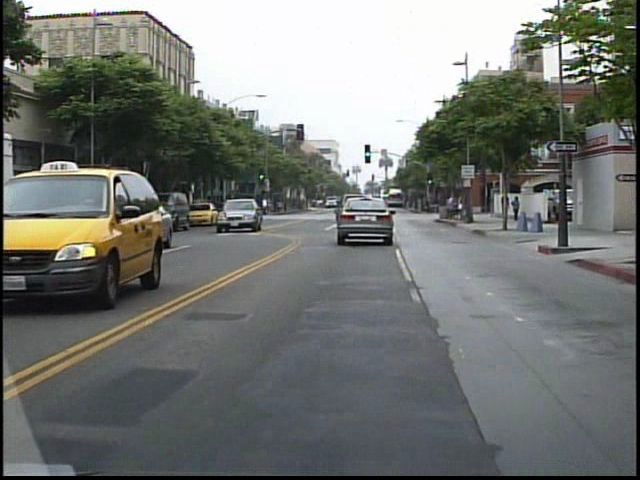person: (440, 189, 458, 220), (496, 187, 510, 226), (508, 192, 520, 224), (260, 194, 271, 218)
